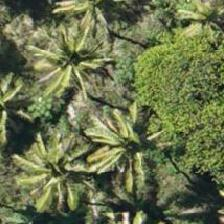coconut_tree: (79, 104, 169, 194), (32, 4, 122, 94), (0, 131, 87, 221), (153, 0, 223, 57)
